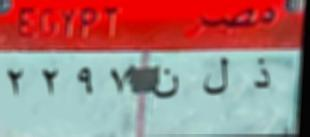2: (2, 63, 31, 100), (39, 64, 63, 103)
7: (107, 62, 132, 97)
9: (73, 64, 98, 100)
laam: (198, 53, 233, 101)
noon: (148, 65, 182, 105)
zaal: (249, 56, 274, 96)
